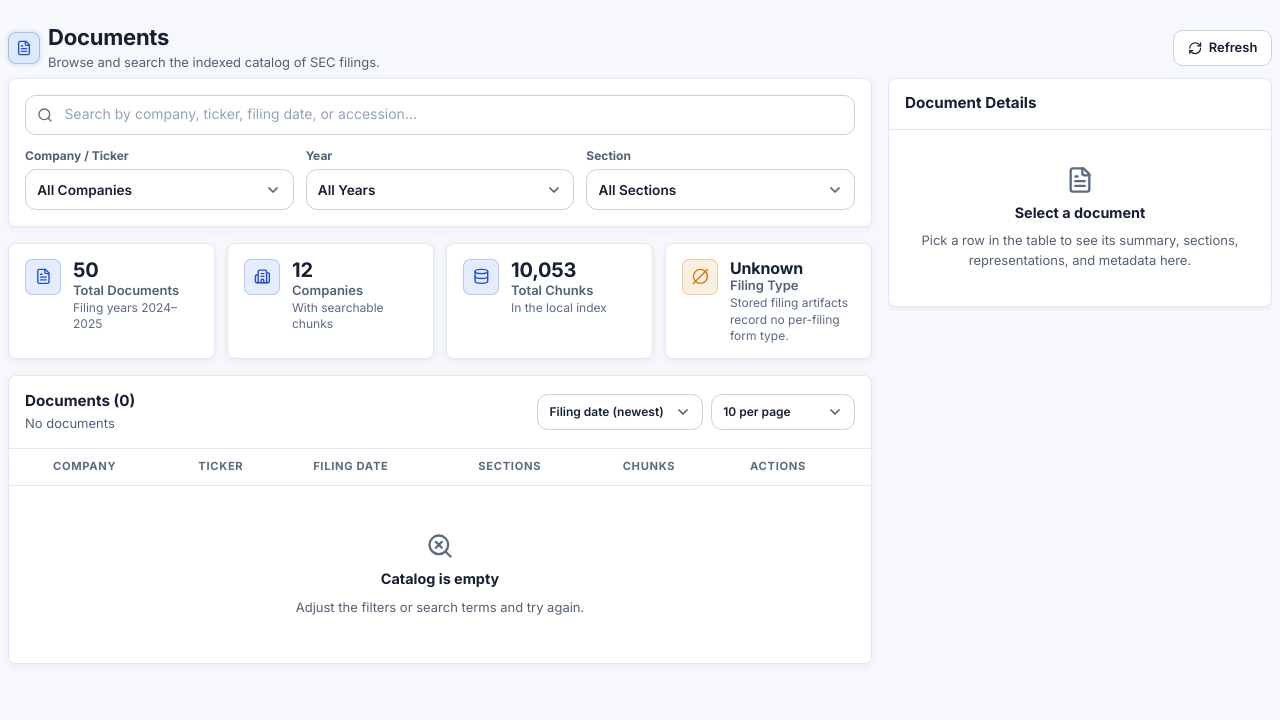
Test: DocumentExplorerPanel › separates an empty search result from an empty catalog
Expected: the text "No documents" is shown, [25, 415, 115, 431]
In the field named "Search filings": (440, 115) [25, 95, 855, 135], type "MSFT"
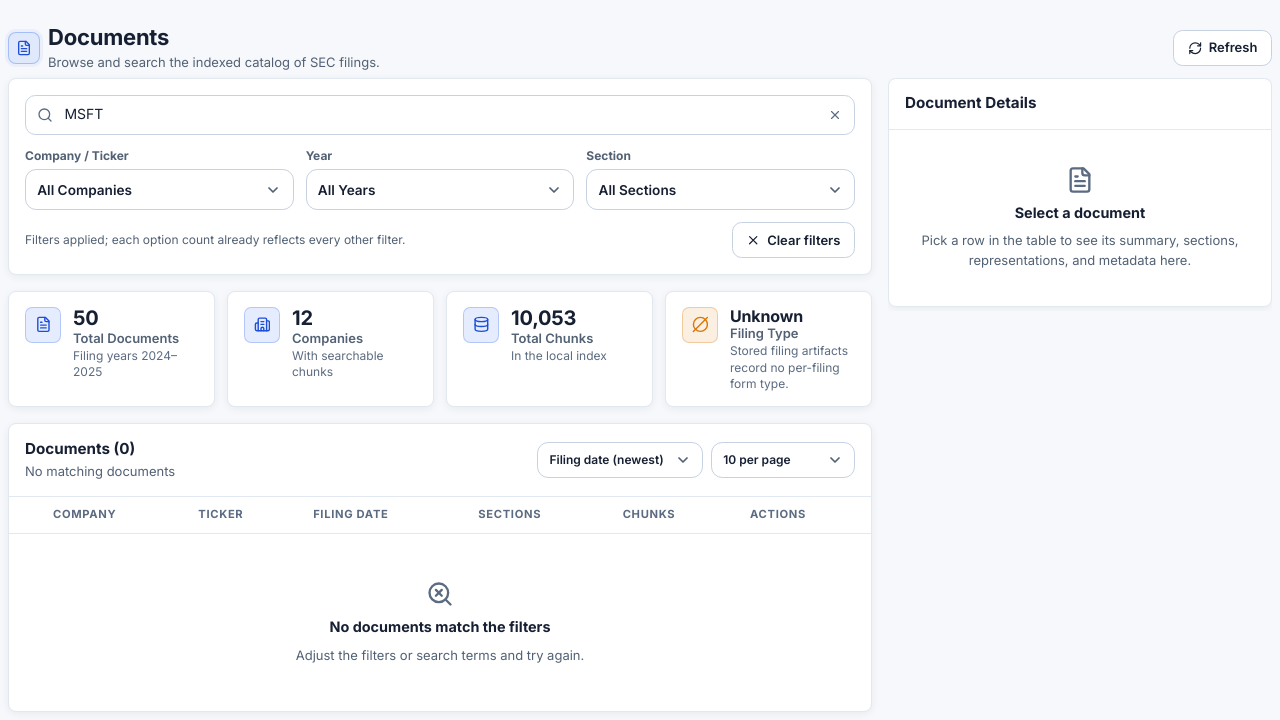
Expected: the text "No matching documents" is shown, [25, 462, 175, 482]
Expected: the text "No documents match the filters" is shown, [330, 616, 550, 638]
